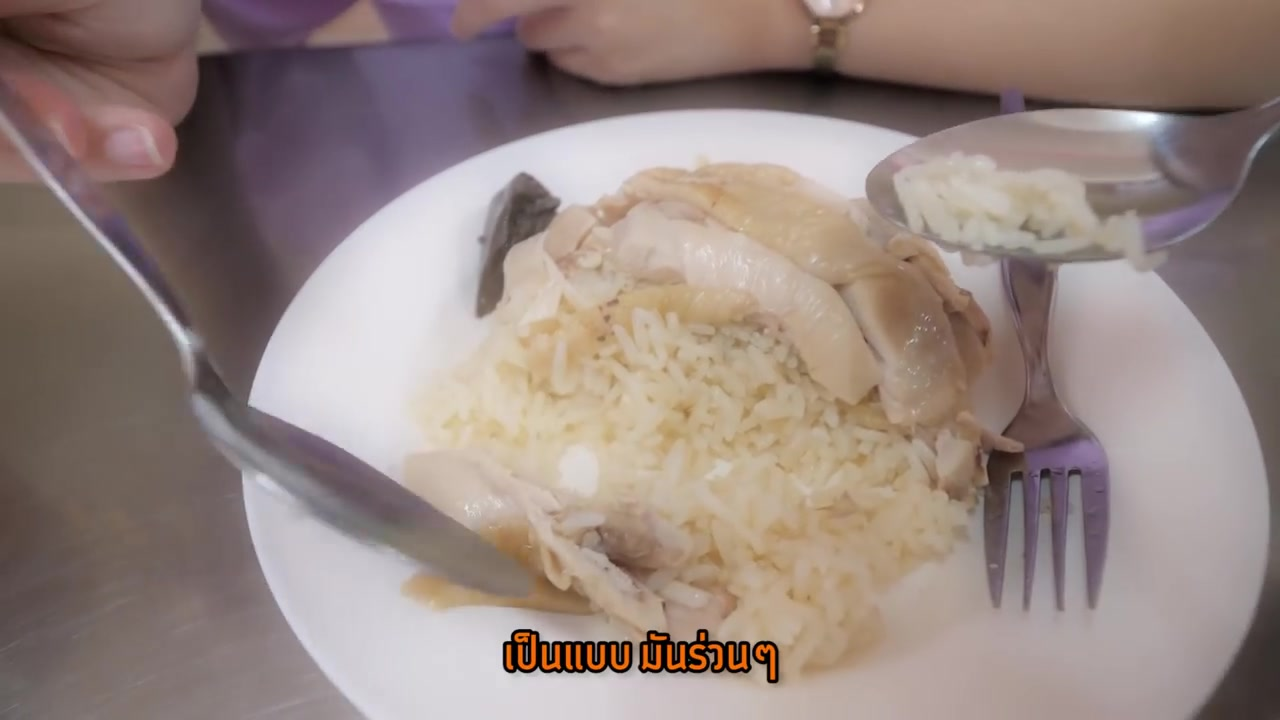text-label: (502, 626, 779, 691)
